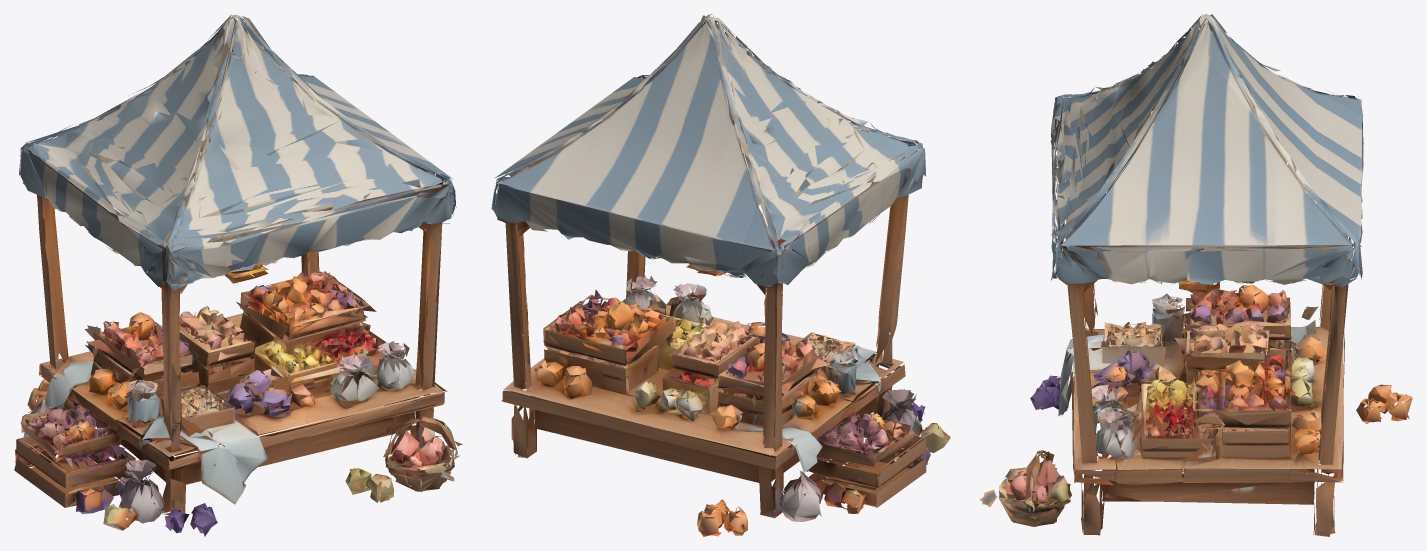
File: kios-biru.glb
3 views of the same model, side by side, from view 1: azimuth 30°, elevation 25°; view 2: azimuth 150°, elevation 25°; view 3: azimuth 270°, elevation 25° (orthographic). The views are drawn at different scales.
Visible parts, largest first — view 1: node_0; view 2: node_0; view 3: node_0.
Boxes of the visible parts, x1=… form: node_0: x1=14, y1=14, x2=462, y2=536; node_0: x1=491, y1=14, x2=950, y2=536; node_0: x1=979, y1=14, x2=1412, y2=536.
Bounding box in the file's own units: 0.7051 × 0.847 × 0.7339.
Materials: 1 (1 with a texture image).
